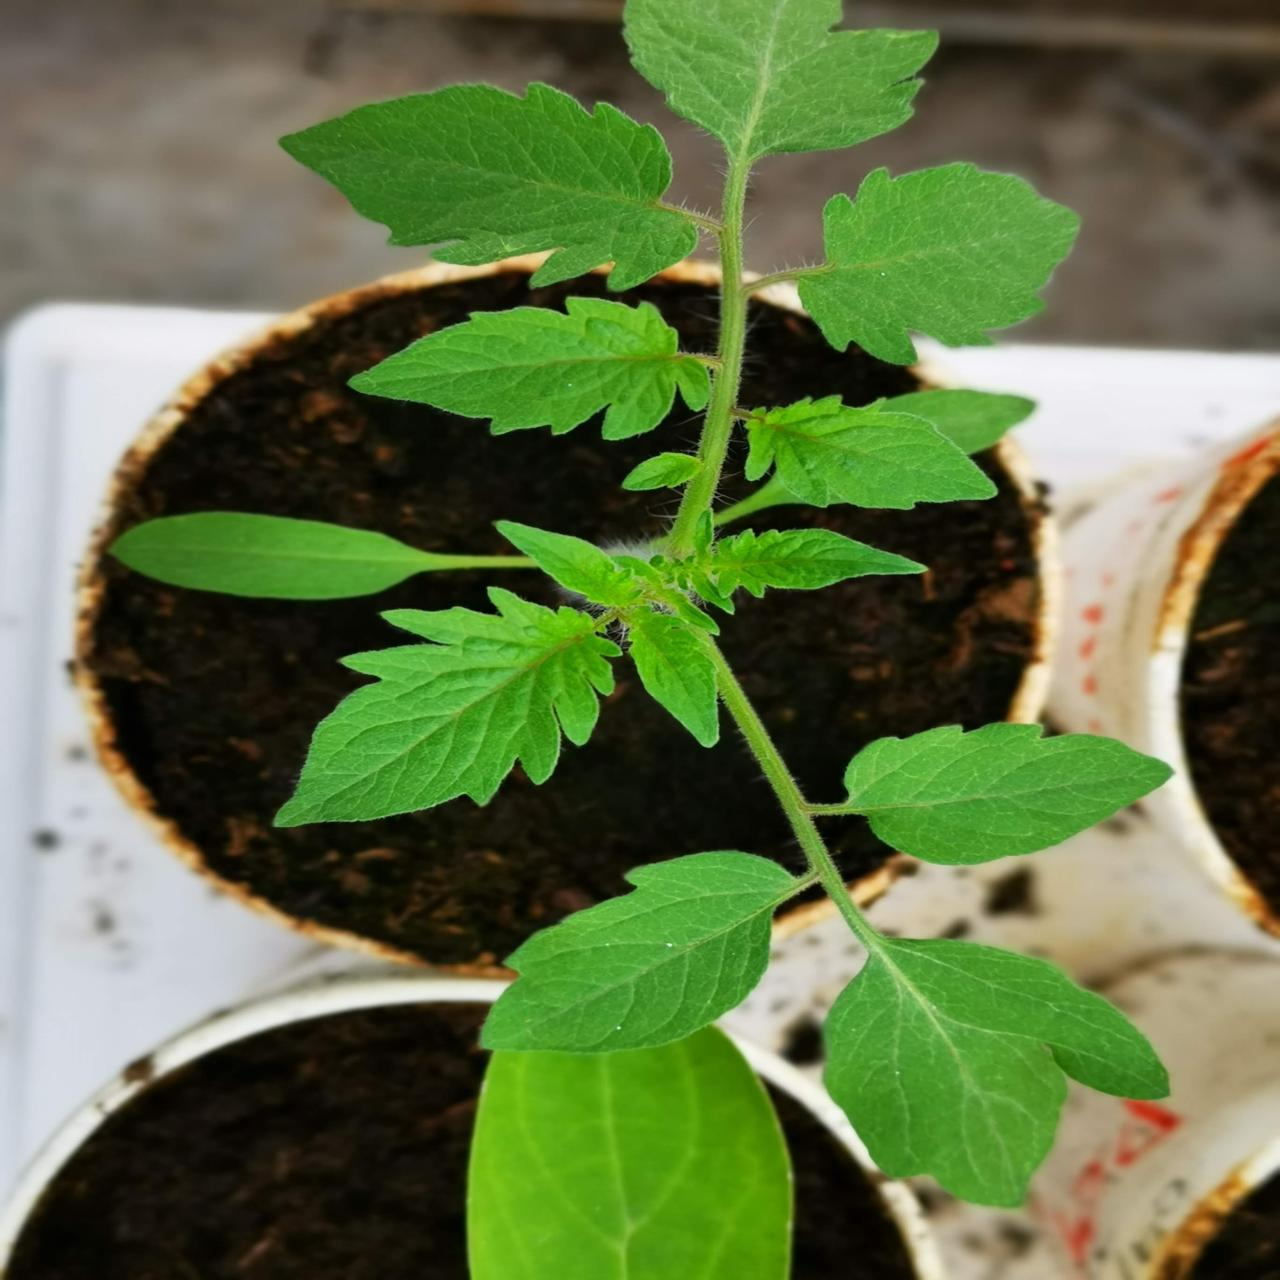T_L_R: (822, 938, 1171, 1208), (279, 82, 699, 292), (274, 587, 625, 828), (481, 852, 806, 1054), (797, 162, 1085, 365), (622, 1, 940, 166), (348, 297, 714, 440), (839, 723, 1177, 866), (648, 509, 932, 617), (744, 395, 999, 511), (624, 607, 722, 751), (622, 452, 706, 490)
T_S_R: (697, 631, 878, 956), (670, 169, 748, 559)
